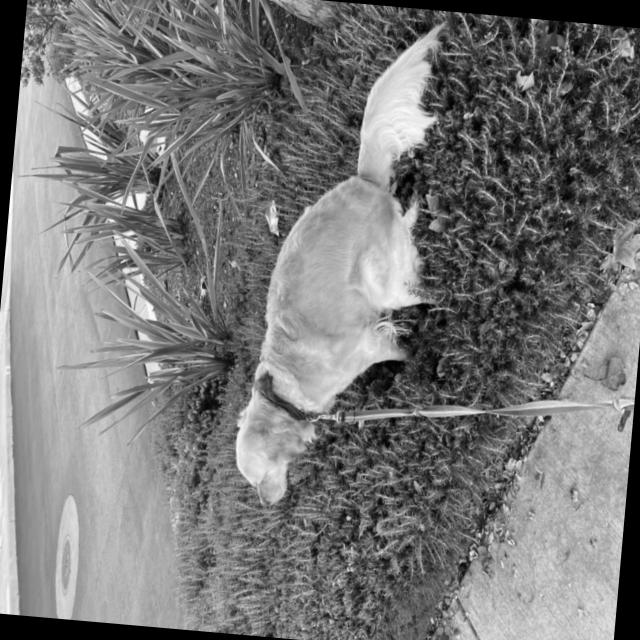squatting: (224, 5, 460, 518)
